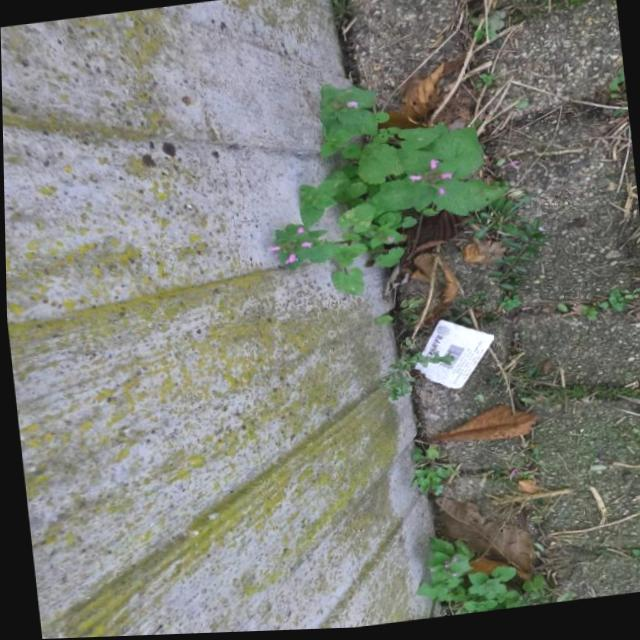Paper: (403, 315, 497, 395)
